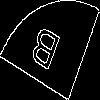B: (24, 25, 62, 81)
